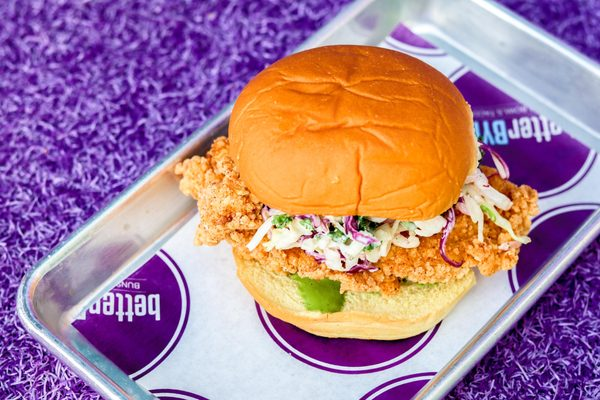soup: (177, 44, 540, 340)
